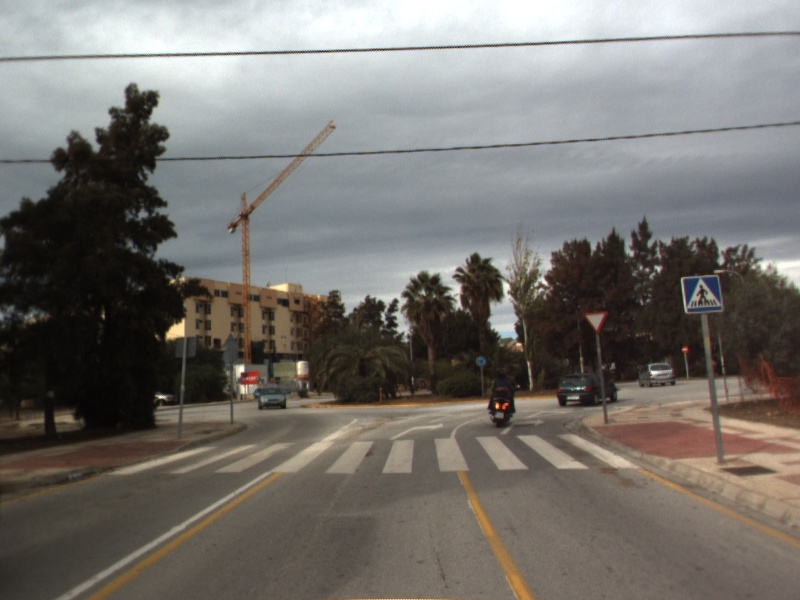RIGHT: (387, 420, 445, 442), (498, 417, 547, 436)
